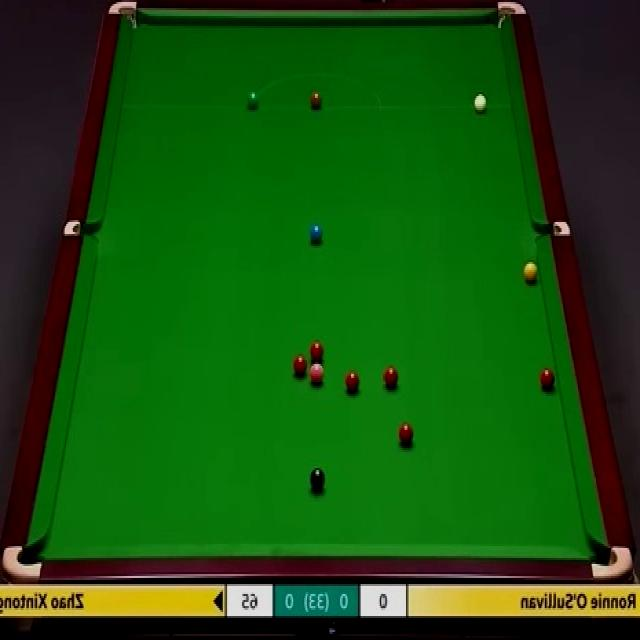black-ball: (310, 466, 326, 492)
blue-ball: (309, 222, 323, 242)
brown-ball: (310, 88, 322, 108)
green-ball: (248, 90, 260, 108)
pink-ball: (308, 364, 324, 386)
red-ball: (398, 421, 415, 447), (290, 354, 308, 376), (383, 363, 398, 389), (540, 367, 556, 390), (344, 369, 359, 393), (310, 341, 325, 360)
white-ball: (474, 94, 486, 112)
yellow-ball: (522, 262, 538, 283)
